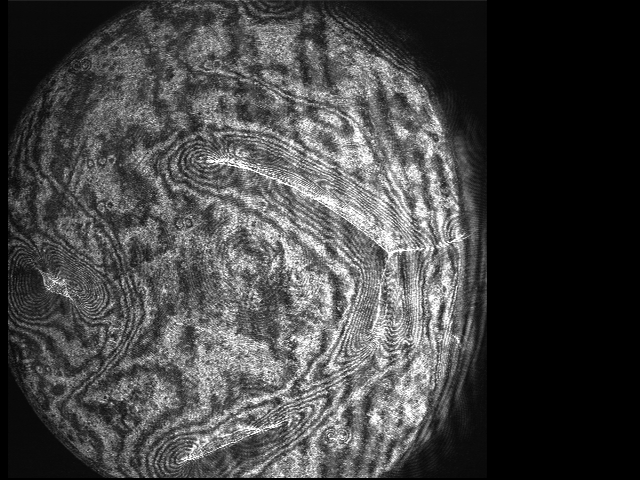plume: (8, 242, 115, 330)
